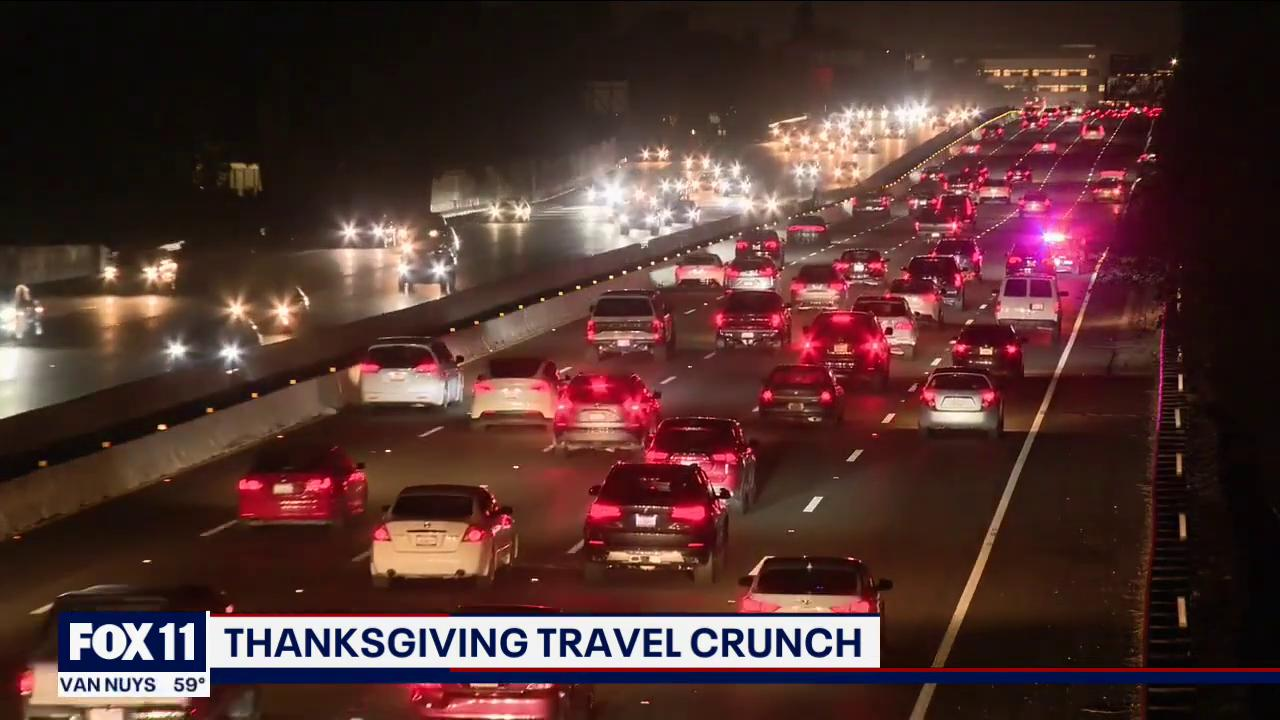bus: (352, 337, 455, 412)
car: (553, 377, 662, 448), (911, 370, 1004, 433), (756, 364, 845, 419), (461, 377, 553, 425), (585, 291, 662, 348), (708, 292, 791, 343), (944, 324, 1023, 375), (649, 417, 750, 452), (672, 253, 727, 289)
